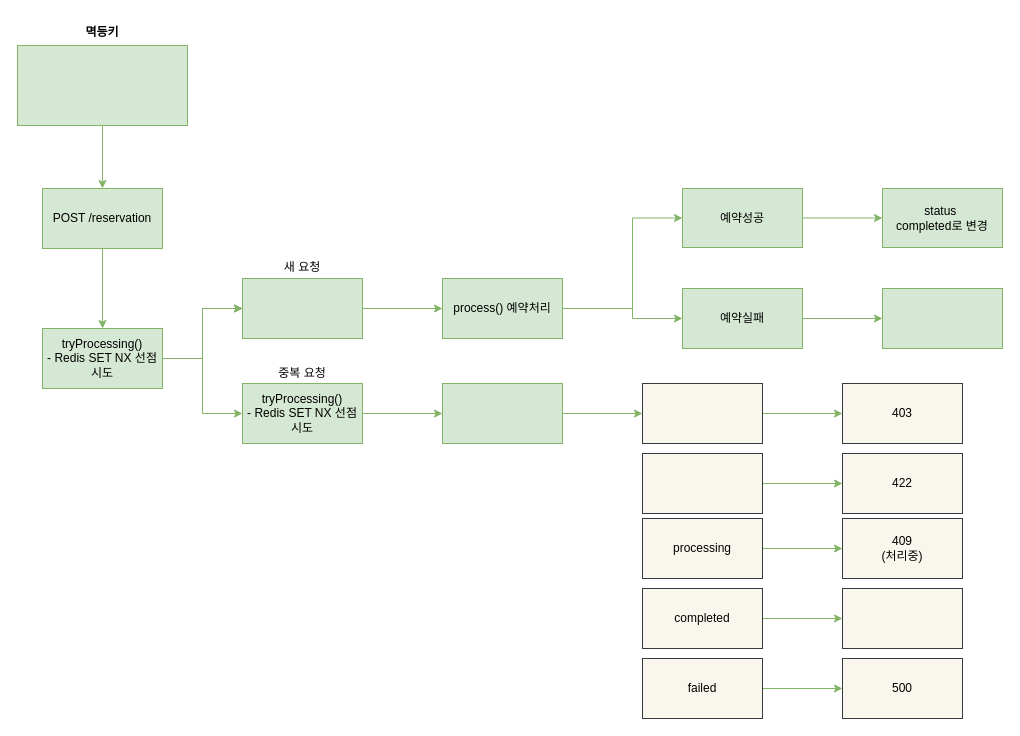
This 1020x736 diagram has some shape labels left out. Each missing label, with the centre of its shape:
200 (이전결과반환): point 902,618
handleDuplicate() 호출 -기존 값 꺼내서 확인: point 502,413
requestHash 다름: point 702,483
status failed로 변경: point 942,318
true (선점성공): point 302,308
userId 다름: point 702,413
예약폼 진입 클라이언트에서 reservationKey(UUID) 생성: point 102,85
